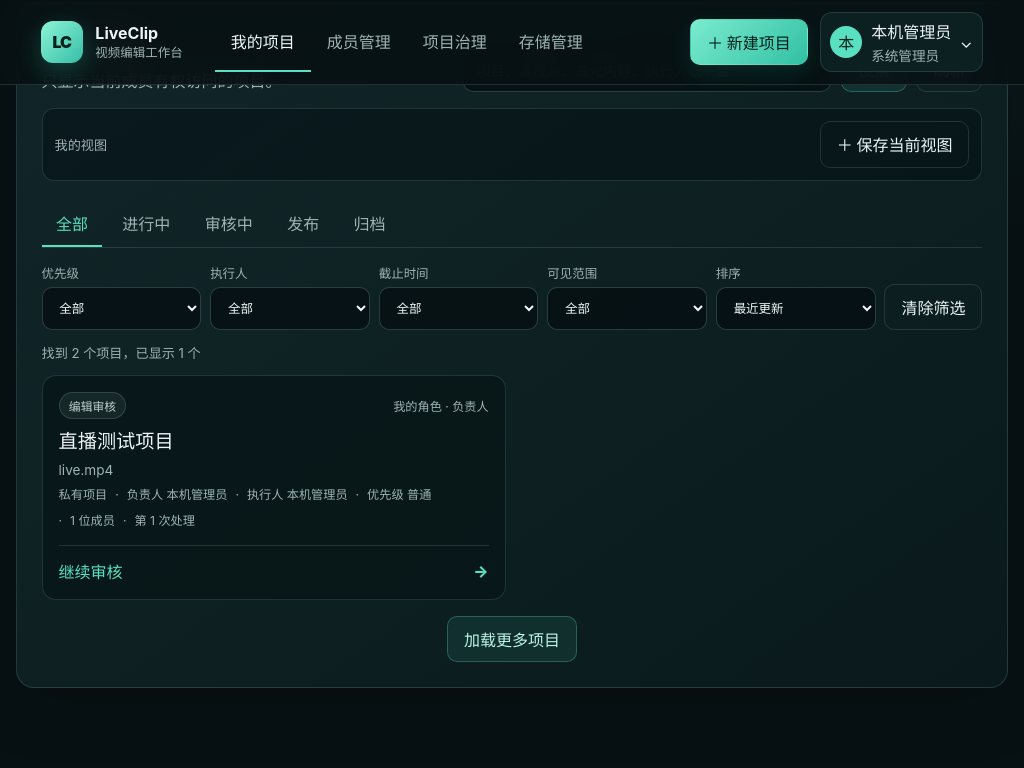
Test case: loads authorized project pages from the server without browser-side slicing
(page scrolled)
expect the text "直播测试项目" is shown: met, box [59,429,174,453]
expect the text "第二个直播项目" is not shown: met
What coordinates should you click on to do the following:
click the button "加载更多项目"
I would click on:
 (512, 639)
Its box is [447,616,577,662].
(page scrolled)
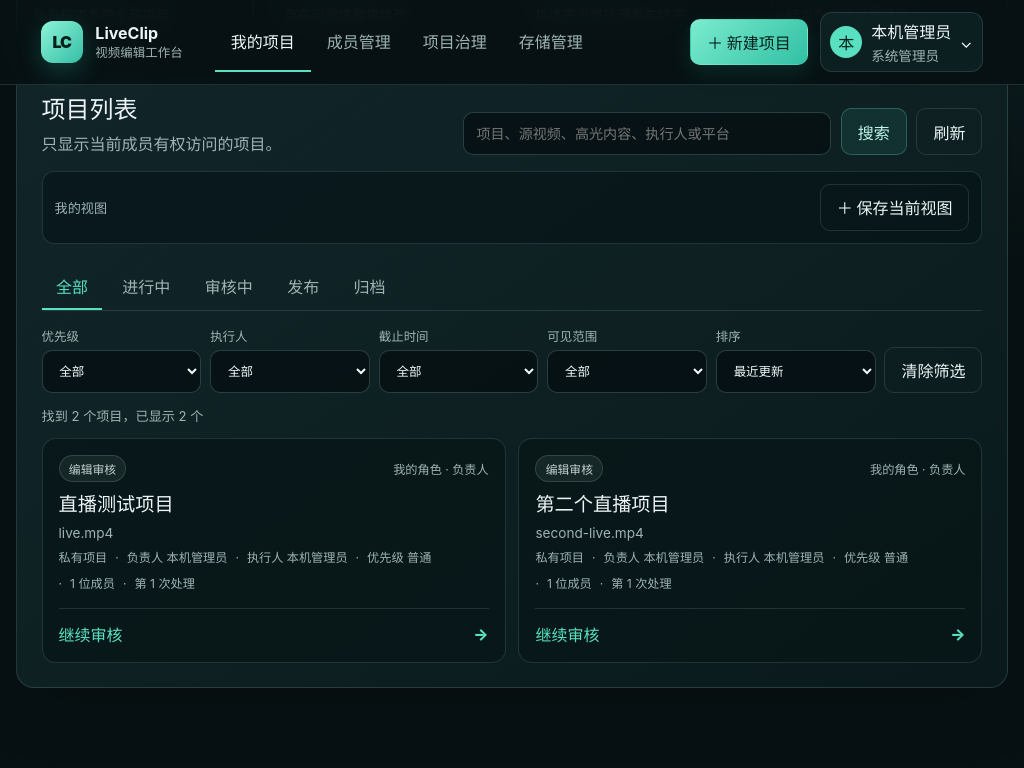
expect the text "第二个直播项目" is shown: met, box [535,492,670,516]
expect the text "找到 2 个项目，已显示 2 个" is shown: met, box [42,408,203,424]
